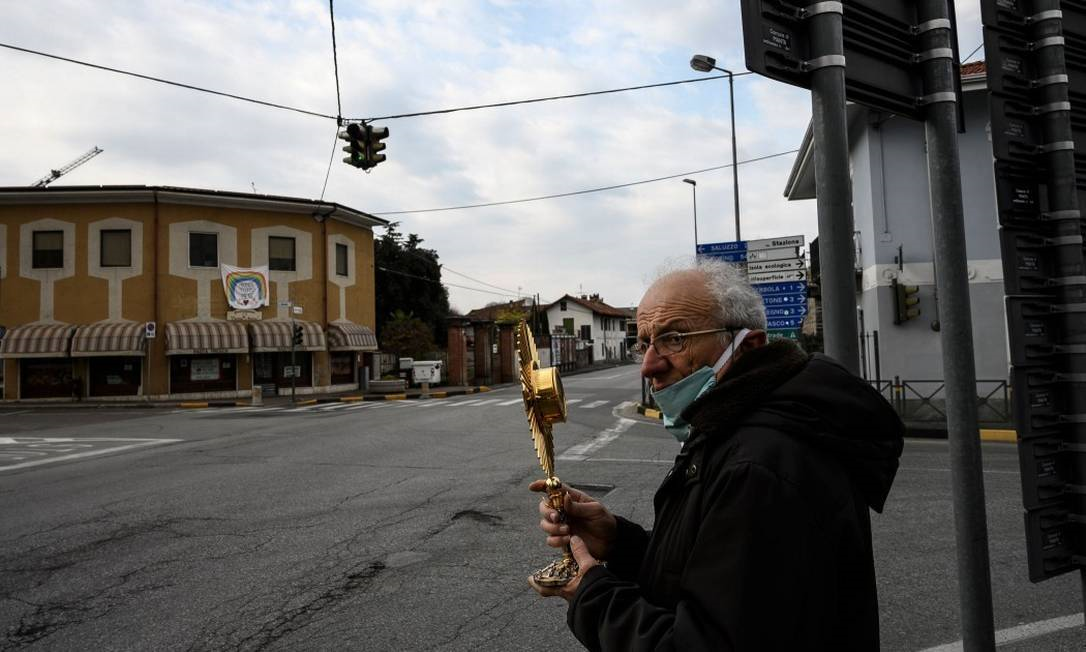mask_weared_incorrect: (632, 265, 765, 448)
